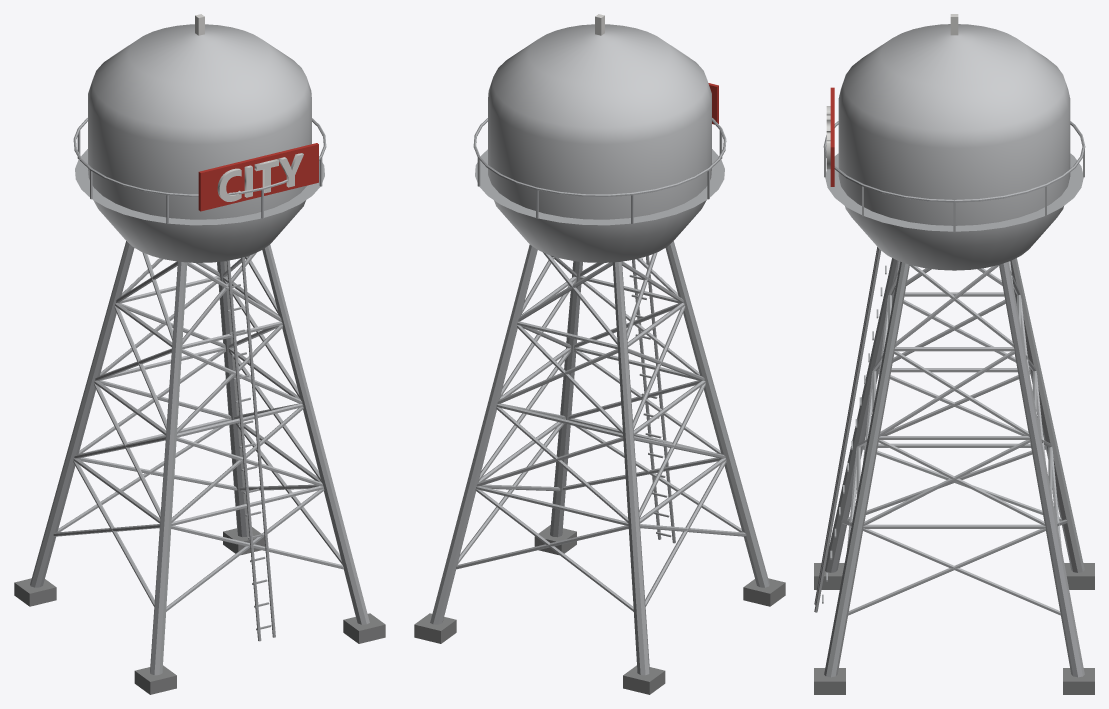
The model's file is city_watertower.fbx.
3 views of the same model, side by side, from view 1: azimuth 30°, elevation 25°; view 2: azimuth 150°, elevation 25°; view 3: azimuth 270°, elevation 25° (orthographic). The views are drawn at different scales.
Visible parts, largest first — view 1: galv_1, alu_1, red_1, concrete_1, trim_1; view 2: alu_1, galv_1, concrete_1; view 3: alu_1, galv_1, concrete_1, trim_1, red_1.
Boxes of the visible parts, x1=… form: galv_1: x1=30, y1=118, x2=369, y2=675; alu_1: x1=88, y1=24, x2=311, y2=262; red_1: x1=198, y1=143, x2=318, y2=211; concrete_1: x1=14, y1=527, x2=385, y2=694; trim_1: x1=195, y1=14, x2=303, y2=201; alu_1: x1=488, y1=24, x2=711, y2=262; galv_1: x1=430, y1=118, x2=769, y2=675; concrete_1: x1=414, y1=525, x2=785, y2=694; alu_1: x1=838, y1=24, x2=1070, y2=270; galv_1: x1=814, y1=121, x2=1085, y2=677; concrete_1: x1=814, y1=563, x2=1094, y2=694; trim_1: x1=826, y1=14, x2=958, y2=169; red_1: x1=830, y1=87, x2=834, y2=186.
Size of the model in its own units: 0.835 by 2.04 by 0.835.
